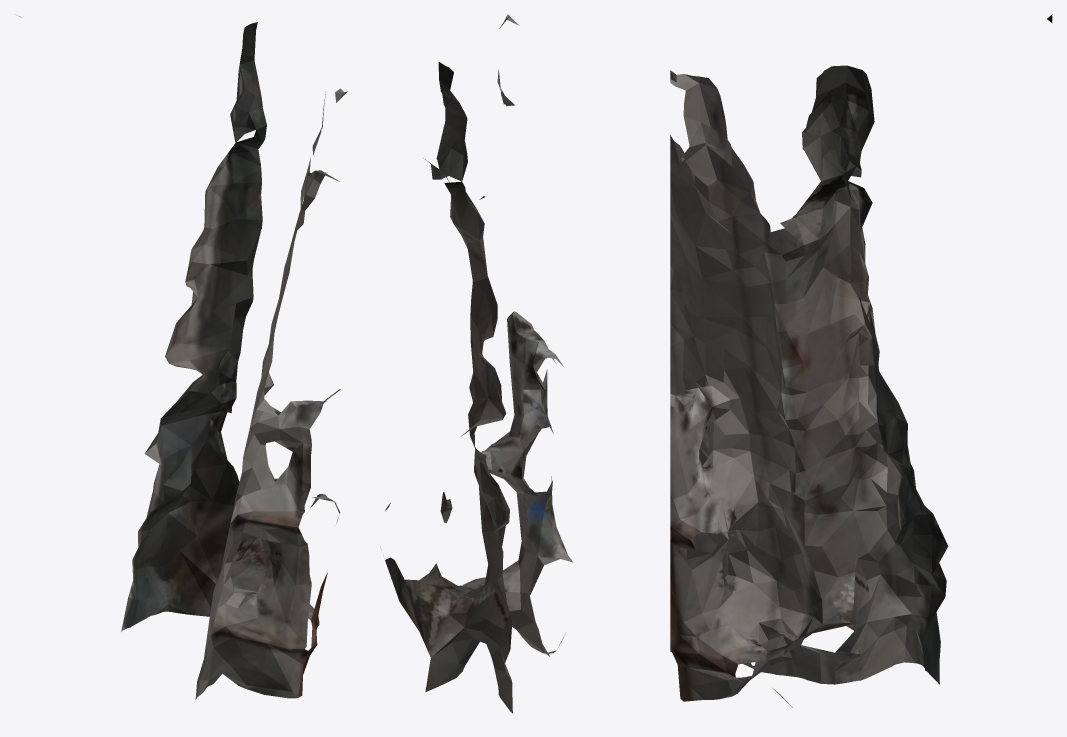
The picture shows the model from 3 angles, left to right: view 1: azimuth 30°, elevation 25°; view 2: azimuth 150°, elevation 25°; view 3: azimuth 270°, elevation 25°; orthographic projection. The views are drawn at different scales.
Size of the model in its own units: 0.2292 by 0.8374 by 0.4496.
2 materials, 2 textured.
